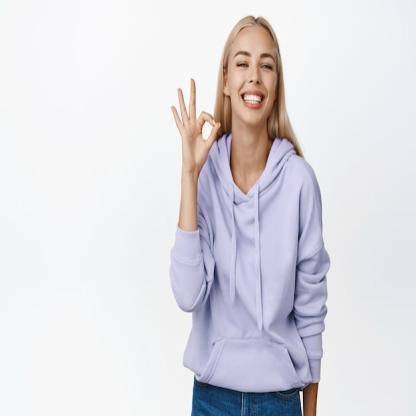ok: (169, 73, 223, 170)
